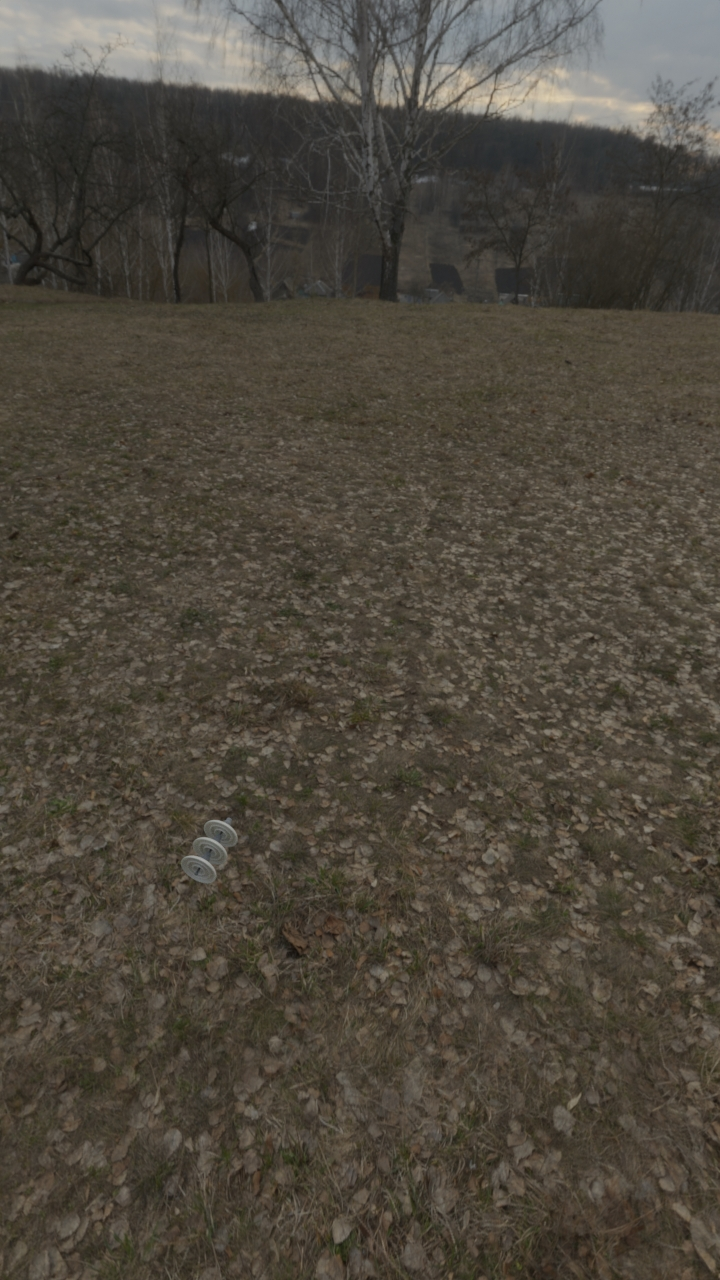ceramicinsulators: (181, 817, 238, 884)
